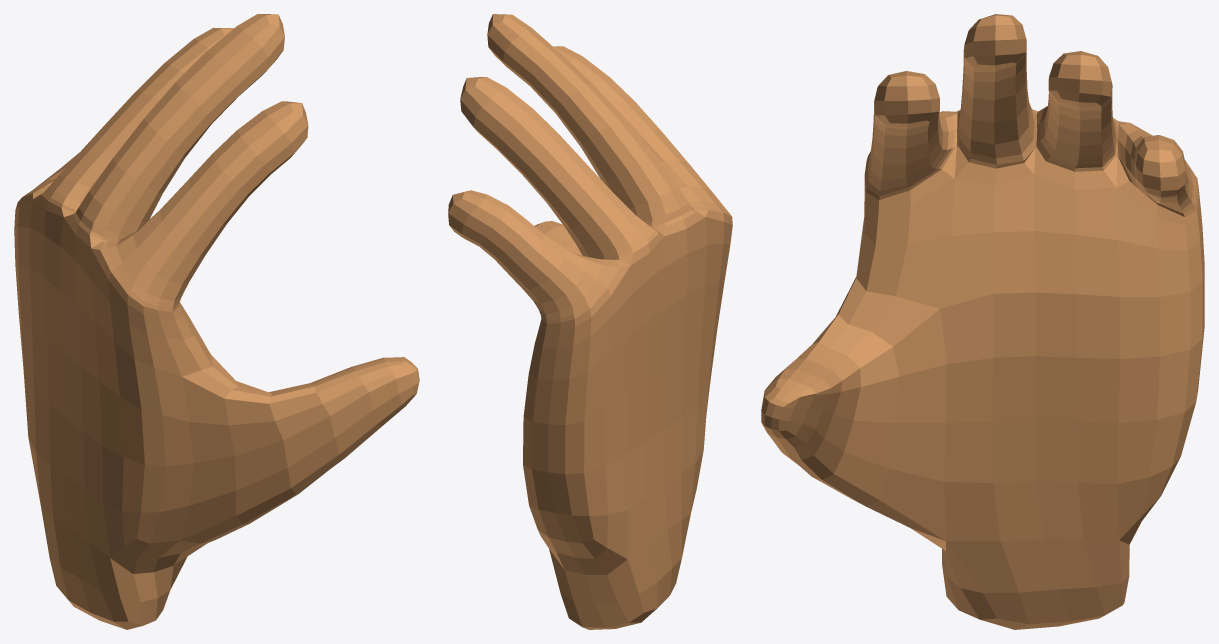
The model's file is hand_grab.glb.
3 renders of one model, left to right at view 1: azimuth 30°, elevation 25°; view 2: azimuth 150°, elevation 25°; view 3: azimuth 270°, elevation 25°, orthographic. The views are drawn at different scales.
Parts seen in each view (by area): view 1: Cube; view 2: Cube; view 3: Cube.
Part boxes in pixels (bbox=[...]): Cube: bbox=[14, 14, 419, 629]; Cube: bbox=[448, 14, 732, 629]; Cube: bbox=[761, 14, 1204, 629].
Size of the model in its own units: 2.63 by 5.71 by 3.37.
